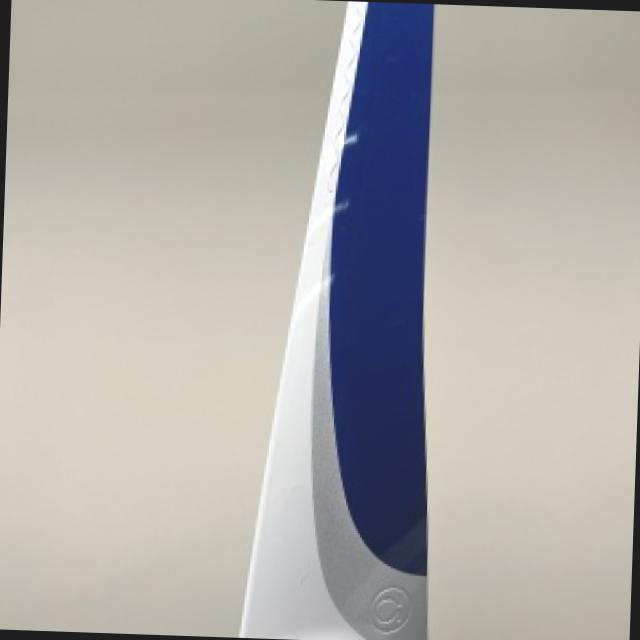healthy: (245, 1, 434, 640)
